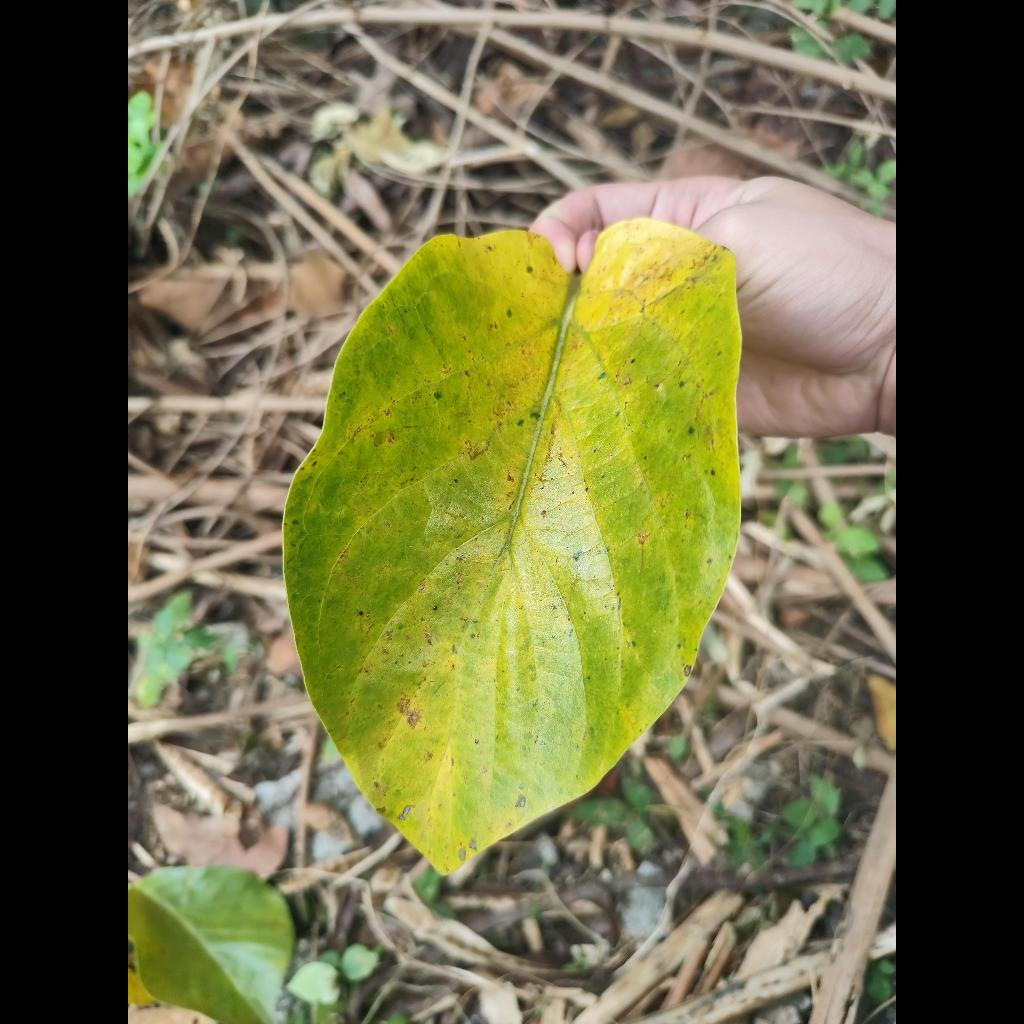deficiencia_nutricional: (284, 218, 741, 872)
